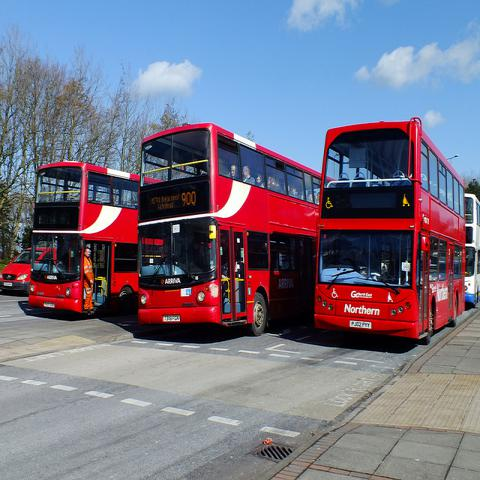bus: (136, 123, 321, 333), (315, 125, 466, 342), (28, 160, 138, 324), (468, 198, 477, 306)
car: (1, 248, 32, 294)
